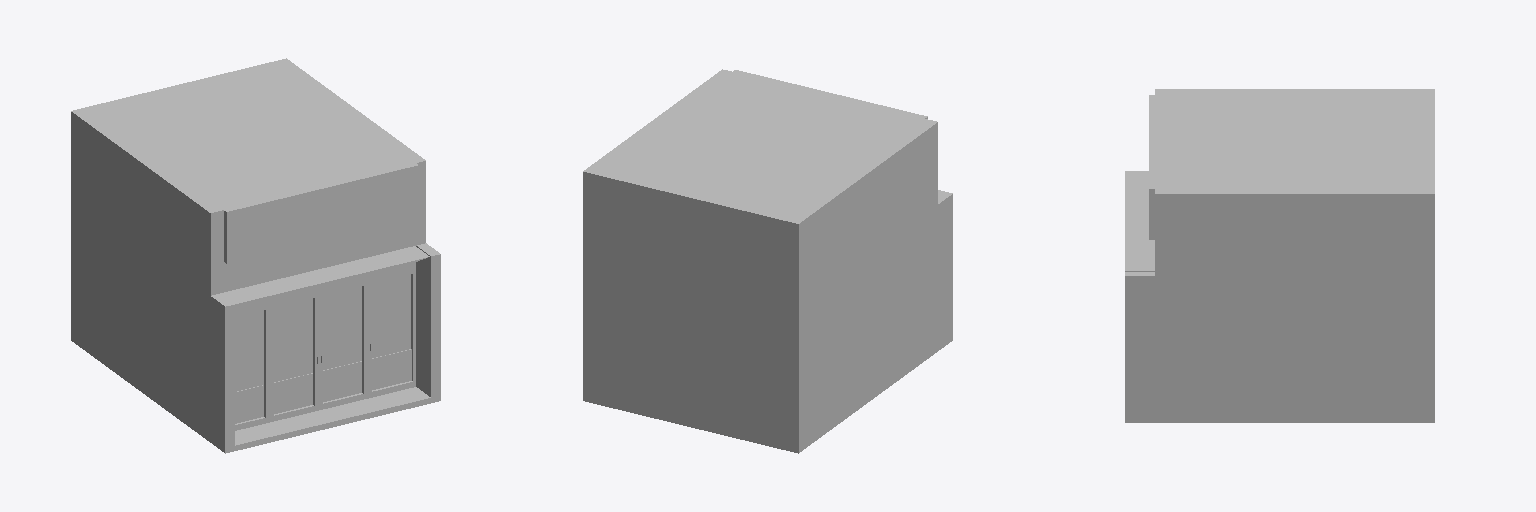
File: Store.obj
3 renders of one model, left to right at view 1: azimuth 30°, elevation 25°; view 2: azimuth 150°, elevation 25°; view 3: azimuth 270°, elevation 25°, orthographic.
Visible parts, largest first — view 1: Mesh14_jitensha_3_0, Mesh18_jitensha_3_0, Mesh10_jitensha_0, Mesh16_jitensha_1_0, Mesh9_jitensha_1_0, Mesh5_jitensha_4_0, Mesh1_jitensha_6_0, Mesh3_jitensha_5_0, Mesh21_jitensha_2_0, Mesh1_jitensha_0, Mesh2_jitensha_0, Mesh12_jitensha_0 (+6 smaller); view 2: Mesh17_jitensha_3_0, Mesh14_jitensha_3_0, Mesh18_jitensha_3_0, Mesh9_jitensha_1_0, Mesh20_jitensha_0, Mesh10_jitensha_0; view 3: Mesh15_jitensha_3_0, Mesh18_jitensha_3_0, Mesh16_jitensha_1_0, Mesh21_jitensha_2_0, Mesh20_jitensha_0, Mesh10_jitensha_0.
Part boxes in pixels (x1,y1,x2,y2): Mesh14_jitensha_3_0: (71, 112, 210, 436); Mesh18_jitensha_3_0: (71, 58, 425, 212); Mesh10_jitensha_0: (211, 161, 425, 295); Mesh16_jitensha_1_0: (416, 246, 440, 397); Mesh9_jitensha_1_0: (211, 297, 234, 447); Mesh5_jitensha_4_0: (372, 274, 410, 357); Mesh1_jitensha_6_0: (274, 298, 312, 381); Mesh3_jitensha_5_0: (323, 286, 361, 369); Mesh21_jitensha_2_0: (221, 246, 429, 303); Mesh1_jitensha_0: (270, 294, 318, 421); Mesh2_jitensha_0: (319, 282, 367, 409); Mesh12_jitensha_0: (235, 387, 430, 445); Mesh17_jitensha_3_0: (583, 172, 798, 447); Mesh14_jitensha_3_0: (799, 122, 937, 446); Mesh18_jitensha_3_0: (583, 69, 936, 223); Mesh9_jitensha_1_0: (938, 194, 952, 345); Mesh20_jitensha_0: (583, 335, 952, 453); Mesh10_jitensha_0: (733, 70, 927, 118); Mesh15_jitensha_3_0: (1155, 194, 1434, 417); Mesh18_jitensha_3_0: (1155, 89, 1434, 193); Mesh16_jitensha_1_0: (1125, 276, 1154, 417); Mesh21_jitensha_2_0: (1125, 176, 1154, 270); Mesh20_jitensha_0: (1125, 418, 1434, 422); Mesh10_jitensha_0: (1149, 95, 1154, 239).
Size of the model in its own units: 3.76 by 3.82 by 4.67.